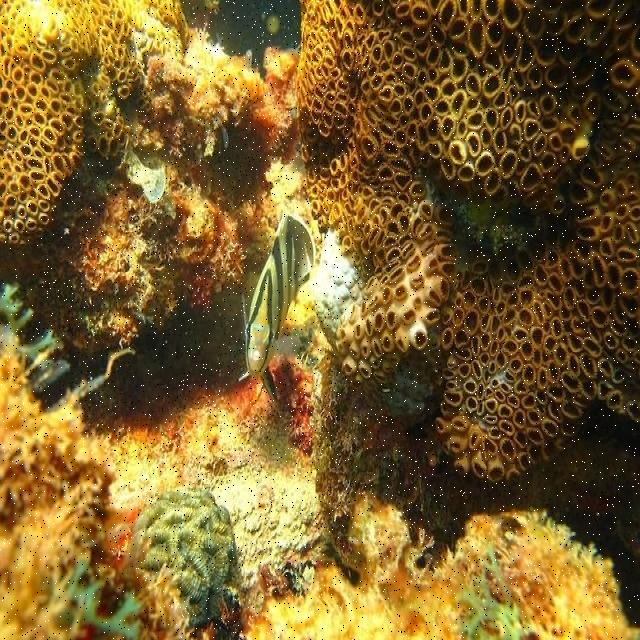fish: (239, 217, 315, 382)
reefs: (295, 0, 639, 483), (0, 285, 195, 639), (130, 487, 233, 621)
